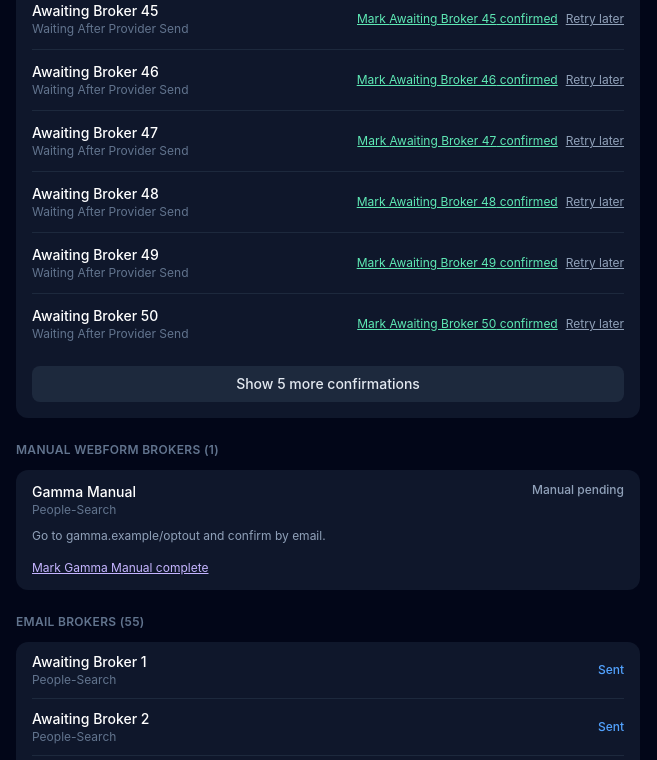
Test case: Dashboard safety controls › initially caps the huge confirmation checklist and lets the user expand it
(page scrolled)
Expected: the text "Awaiting Broker 51" is not shown
Expected: the text "Awaiting Broker 50" is shown, x1=32 y1=307 x2=158 y2=324
Click the button "Show 5 more confirmations" at (328, 384), box x1=32 y1=366 x2=624 y2=402
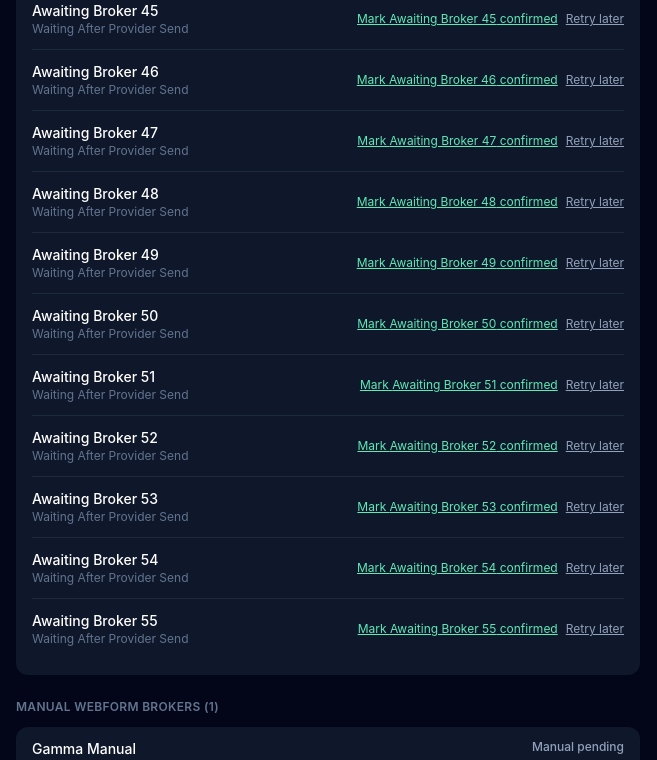
Now the text "Awaiting Broker 51" is shown, box x1=32 y1=368 x2=155 y2=385
